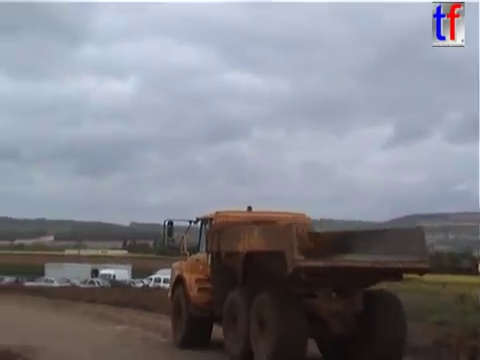truck: (160, 203, 434, 360)
